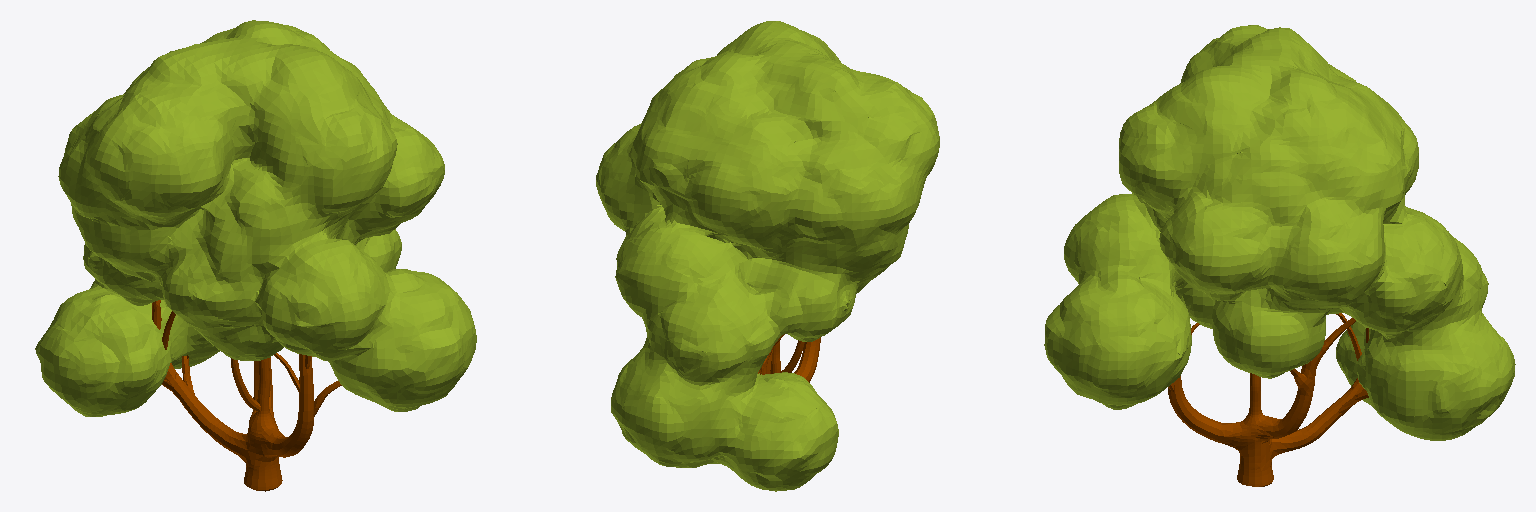
The robot description file, URDF, robot "tree_1":
<?xml version="1.0"?> 

<!-- Copyright 2023 [author] -->

<!-- Licensed under the Apache License, Version 2.0 (the "License"); -->
<!-- you may not use this file except in compliance with the License. -->
<!-- You may obtain a copy of the License at -->

<!--     http://www.apache.org/licenses/LICENSE-2.0 -->

<!-- Unless required by applicable law or agreed to in writing, software -->
<!-- distributed under the License is distributed on an "AS IS" BASIS, -->
<!-- WITHOUT WARRANTIES OR CONDITIONS OF ANY KIND, either express or implied. -->
<!-- See the License for the specific language governing permissions and -->
<!-- limitations under the License. -->

<!-- Authors: [author], [author] -->

<robot name="tree_1">
    <link name="tree_1">
        <visual>
            <origin xyz="0 0 0" rpy="0 0 0" />
            <geometry>
                <mesh filename='meshes/tree_bush.stl' />
            </geometry>
            <material name="green">
                <color rgba="0.6 0.7 0.2 1"/>
            </material>
        </visual>
        <collision>
            <origin xyz="0 0 0" rpy="0 0 0" />
            <geometry>
                <mesh filename='meshes/tree_bush.stl' />
            </geometry>
        </collision>
        <inertial>
            <mass value="10"/>
            <inertia ixx="0.4" ixy="0.0" ixz="0.0" iyy="0.4" iyz="0.0" izz="0.2" />
        </inertial>
    </link>
    <link name="trunk">
        <visual>
            <origin xyz="0 0 0" rpy="0 0 0" />
            <geometry>
                <mesh filename='meshes/tree_trunk.stl' />
            </geometry>
            <material name="brown">
                <color rgba="0.6 0.3 0 1"/>
            </material>
        </visual>
        <collision>
            <origin xyz="0 0 0" rpy="0 0 0" />
            <geometry>
                <mesh filename='meshes/tree_trunk.stl' />
            </geometry>
        </collision>
        <inertial>
            <mass value="10"/>
            <inertia ixx="0.4" ixy="0.0" ixz="0.0" iyy="0.4" iyz="0.0" izz="0.2" />
        </inertial>
    </link>
    <joint name="tree_trunk" type="fixed">
        <origin rpy="0 0 0" xyz="0 0 0"/>
        <parent link="tree_1"/>
        <child link="trunk"/>
    </joint>
</robot>

--- What the picture shows (computed from the rendered views, not written in the file) ---
The picture shows the robot from 3 angles, left to right: view 1: azimuth 30°, elevation 25°; view 2: azimuth 150°, elevation 25°; view 3: azimuth 270°, elevation 25°; orthographic projection.
Model tree_1 with 2 links and 1 joints (1 fixed), rooted at tree_1, posed all joints at 0.
Links seen in each view (by area): view 1: tree_1, trunk; view 2: tree_1, trunk; view 3: tree_1, trunk.
Boxes of the visible links, <box> form: tree_1: <box>35,20,476,416</box>; trunk: <box>152,300,341,491</box>; tree_1: <box>596,21,939,491</box>; trunk: <box>758,334,820,382</box>; tree_1: <box>1044,25,1515,440</box>; trunk: <box>1168,313,1368,486</box>.
Bounding box of the posed robot: 4.64 × 6.08 × 5.96 m (x, y, z).
Meshes: 2 distinct files referenced, 2 mesh visuals loaded (2 binary STL).
